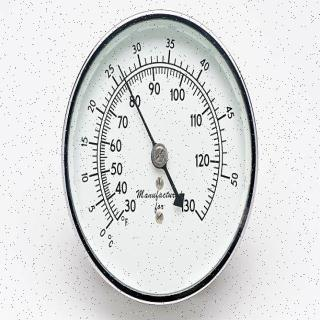gauge: (51, 8, 272, 304), (112, 205, 136, 228), (185, 201, 207, 225), (150, 143, 170, 169), (116, 62, 123, 70)
